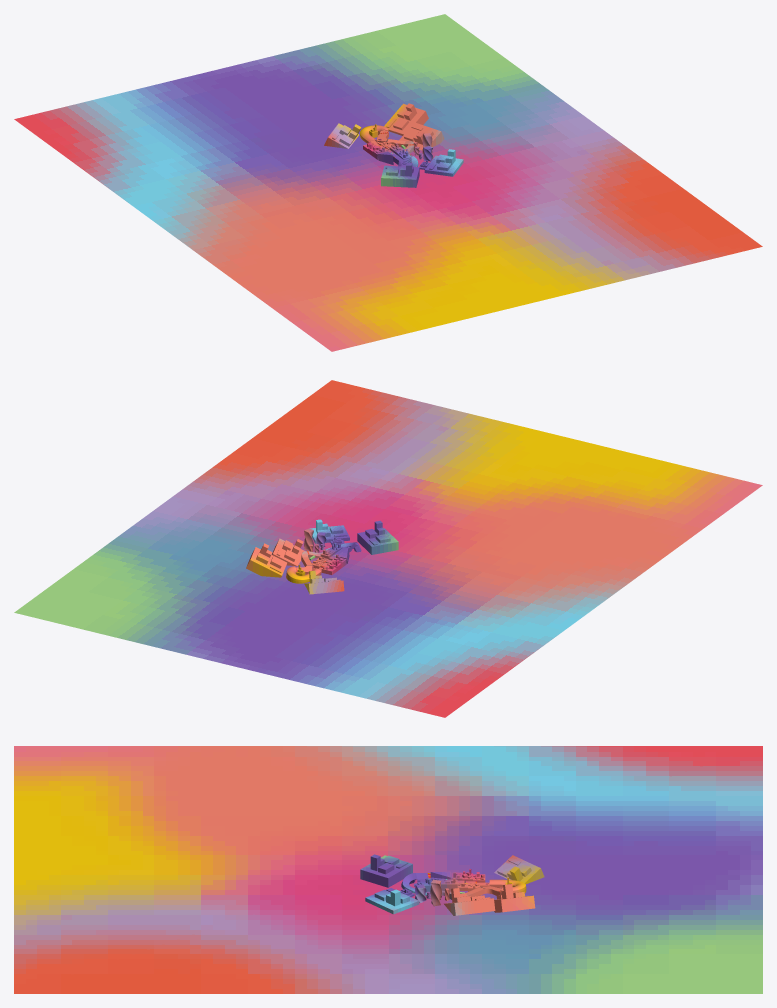
3 views of the same model, one above another, from view 1: azimuth 30°, elevation 25°; view 2: azimuth 150°, elevation 25°; view 3: azimuth 270°, elevation 25° (orthographic). The views are drawn at different scales.
Parts seen in each view (by area): view 1: cc_color; view 2: cc_color; view 3: cc_color.
Boxes of the visible parts, box(x1,y1,x2,y2) form: cc_color: box(14, 14, 762, 351); cc_color: box(14, 380, 762, 717); cc_color: box(14, 746, 762, 993).
Size of the model in its own units: 374992 by 28996 by 478844.
Materials: 5 (5 with a texture image).
